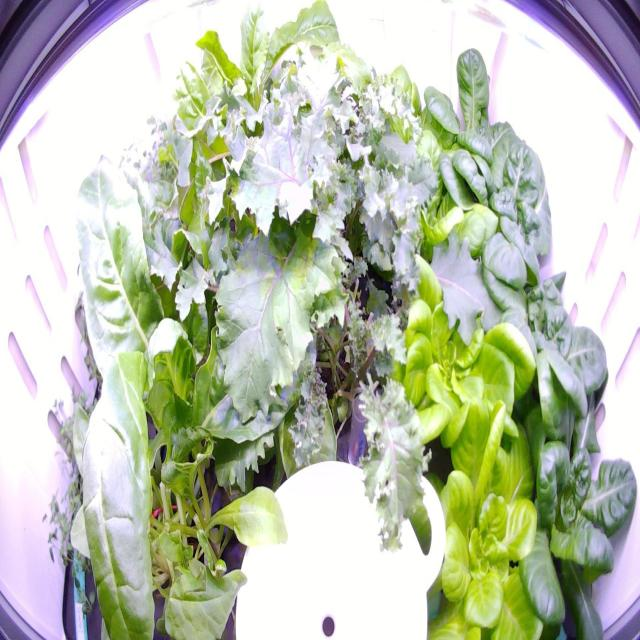young: (370, 245, 548, 490), (382, 397, 555, 637), (494, 370, 640, 638), (467, 255, 611, 438), (424, 132, 569, 302), (421, 38, 539, 191)
